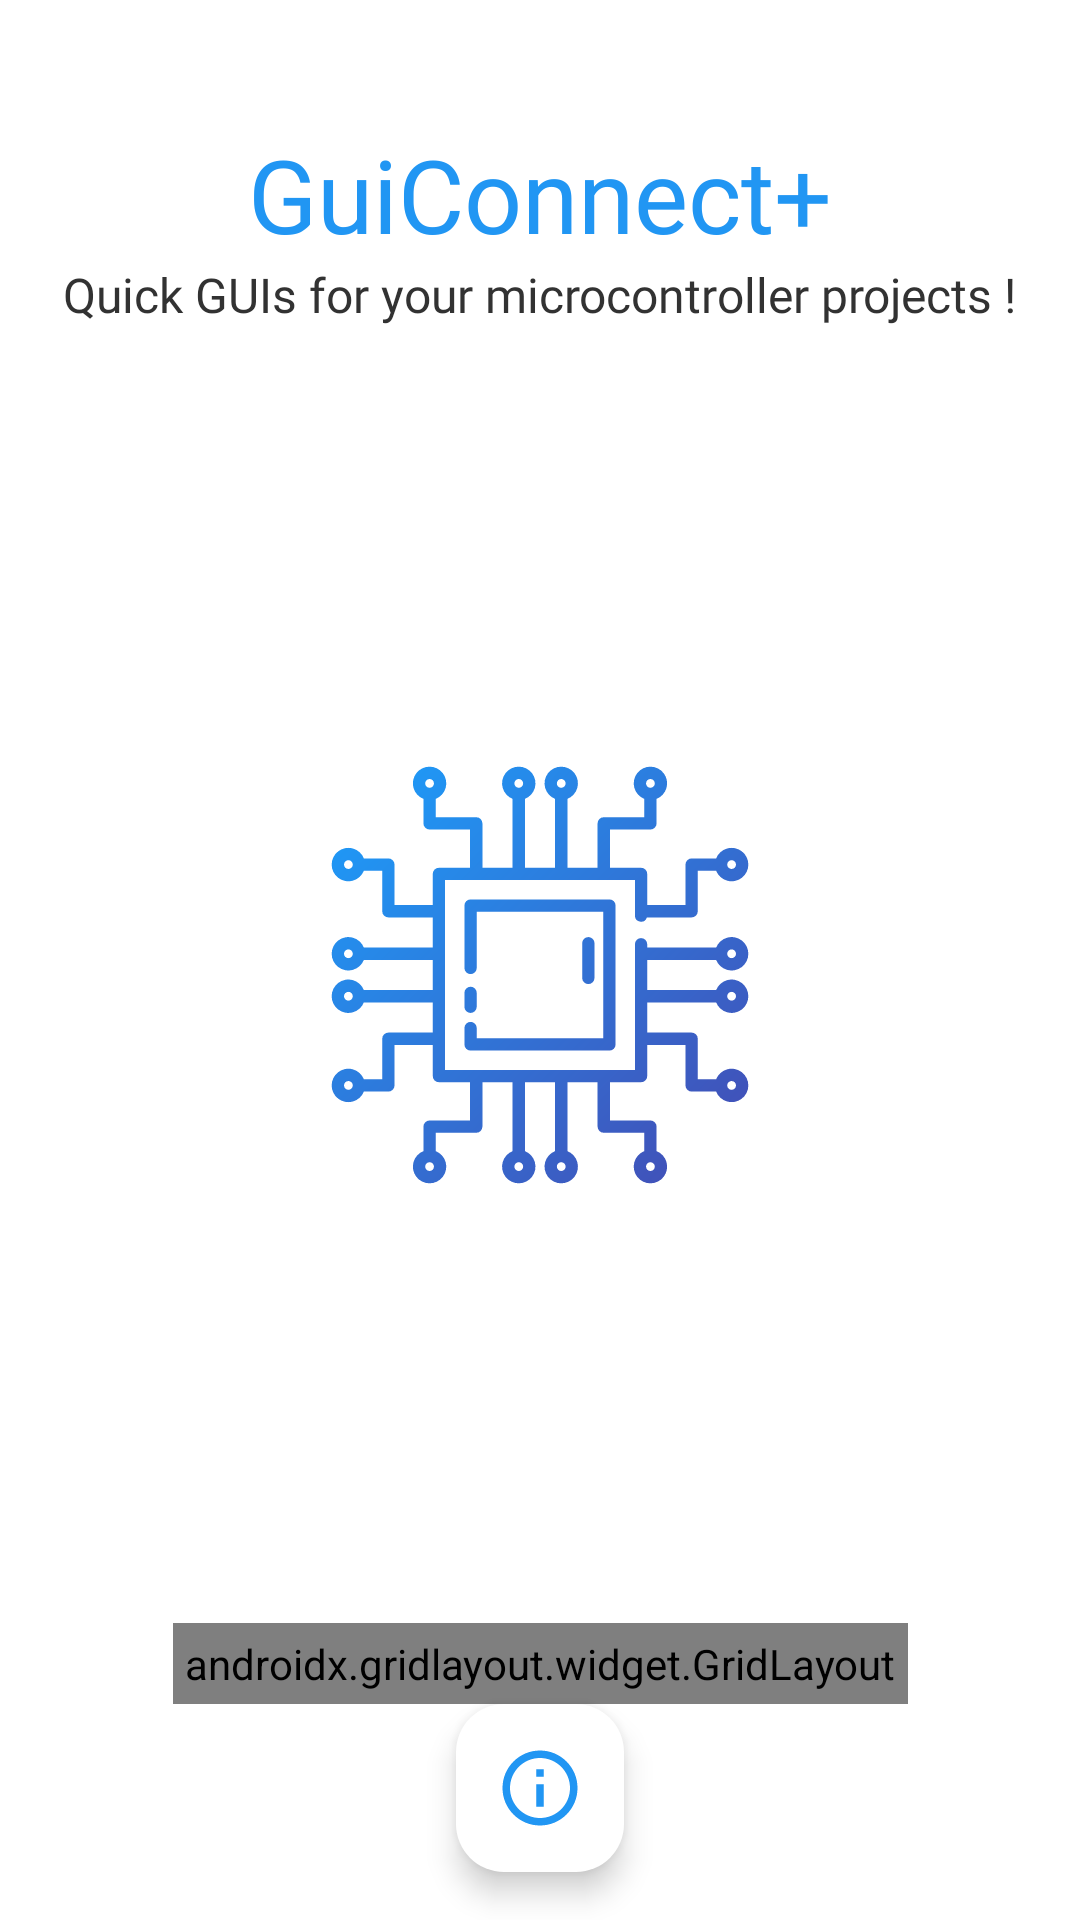

Named icons in this screenshot (1080px×1920px) and their centers, point (x, y):
info: point (540, 1788)
